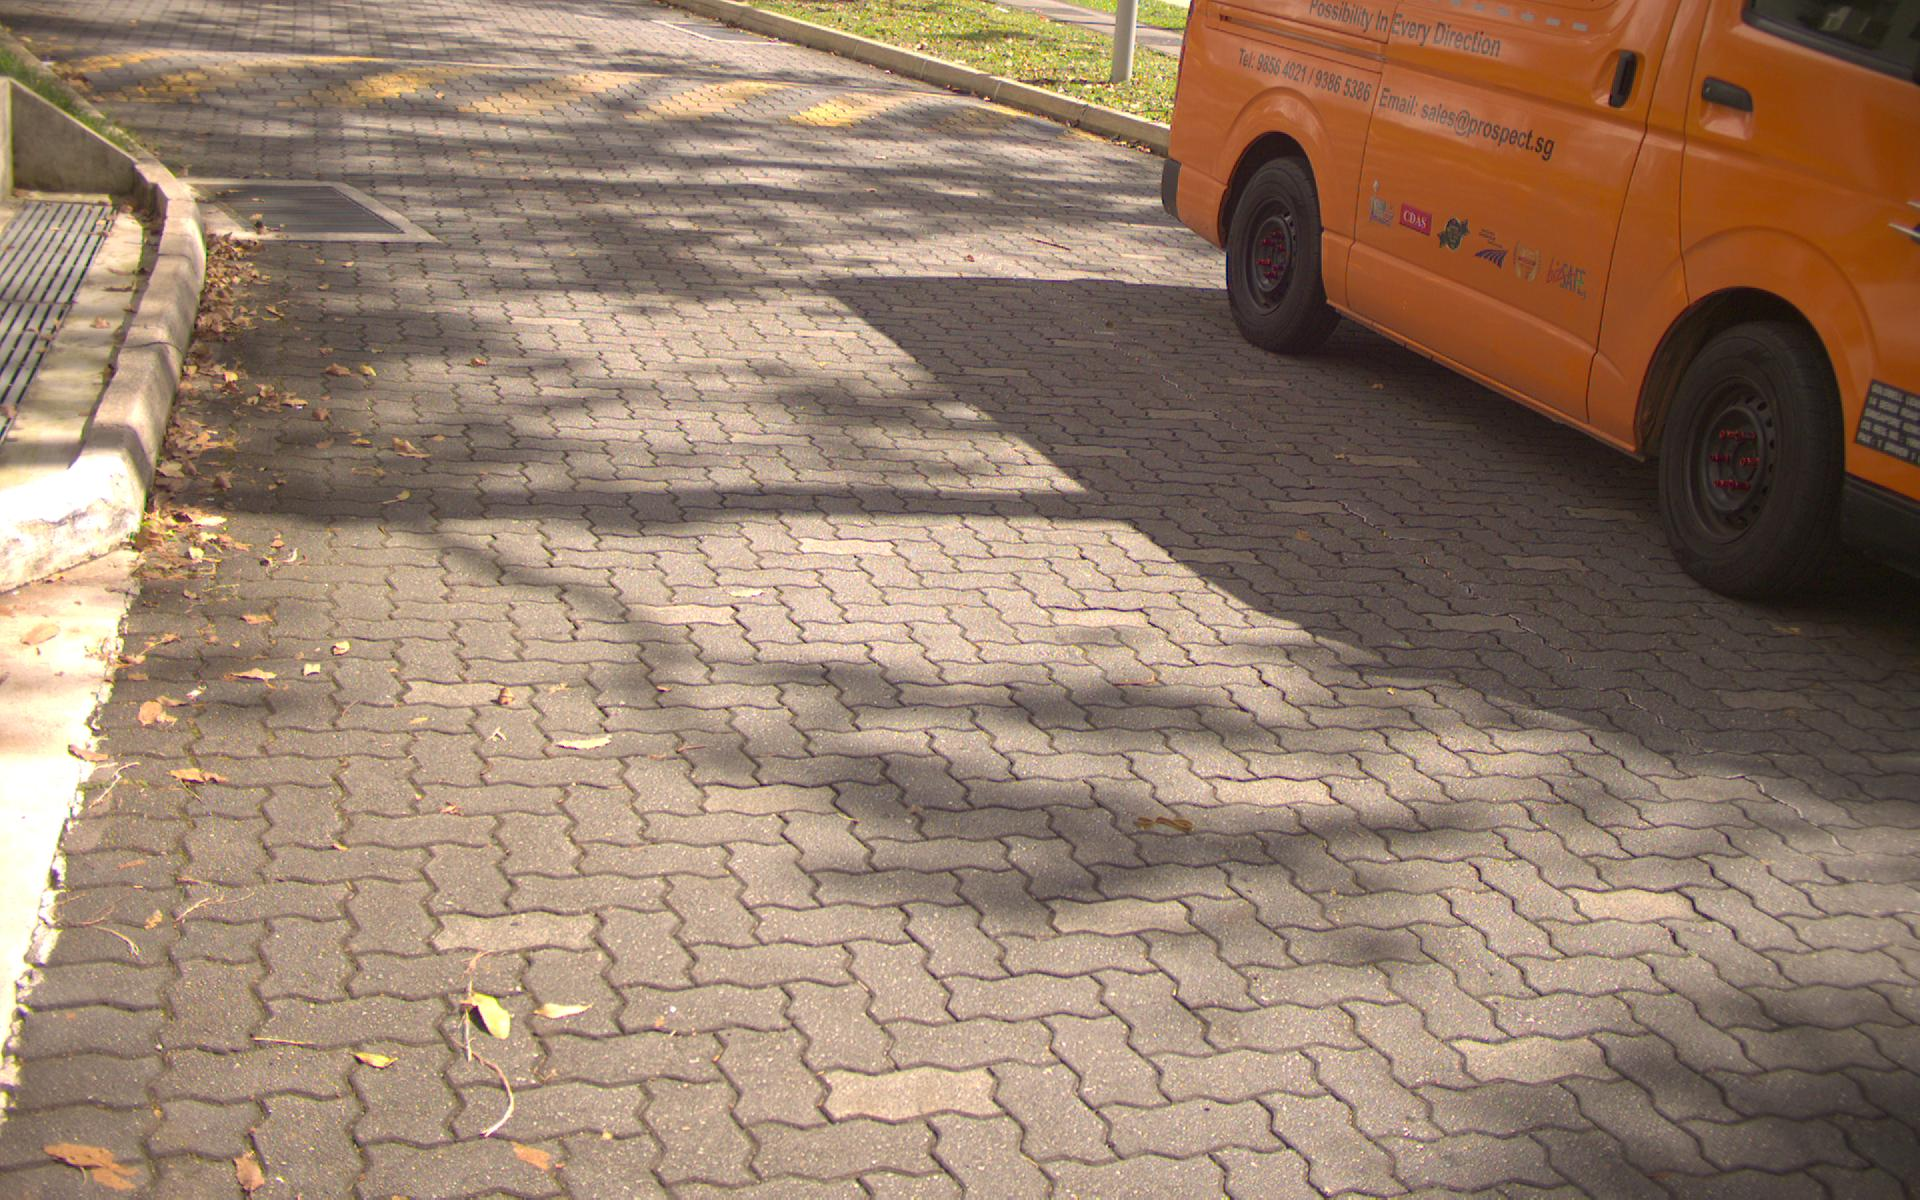curb_grill_low: (10, 196, 119, 424), (191, 174, 411, 236)
road_curb_medium: (7, 241, 529, 1181)
